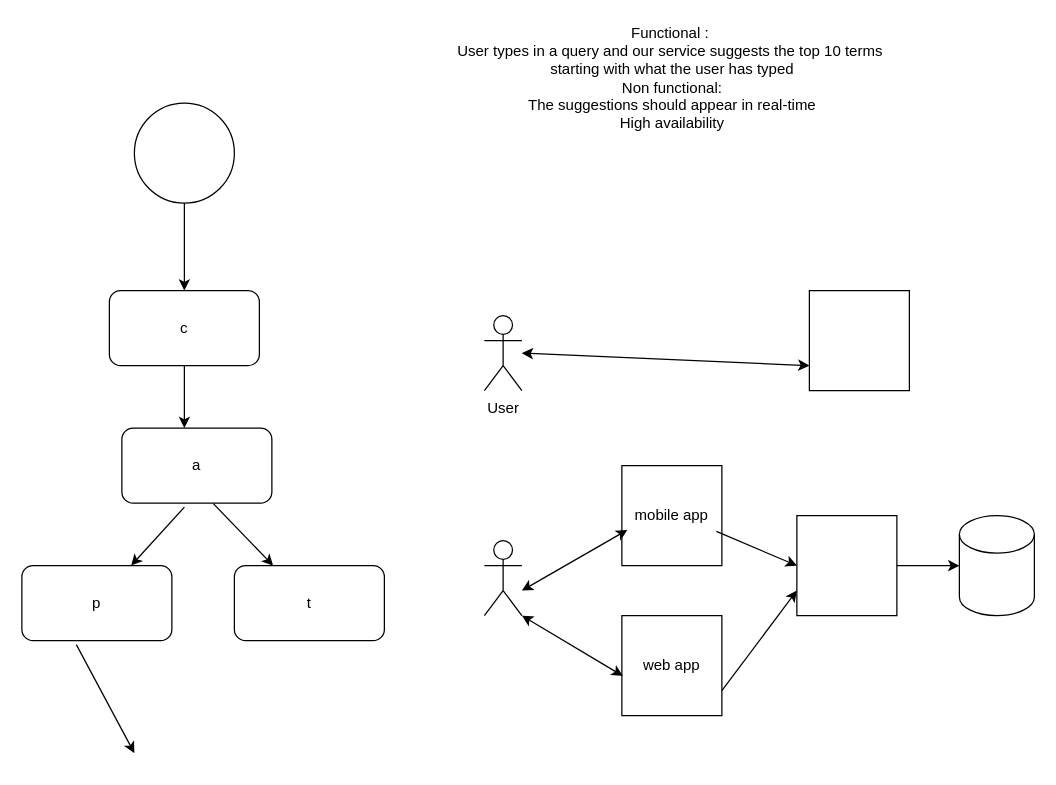
Image size: 1056x785. Some labels were removed from this diagram. The centre of each missing label's shape, as x and y in pixels:
"Actor" goes at point (502, 577).
"Type ahead server" goes at point (846, 565).
"Typeahead system" goes at point (858, 340).
